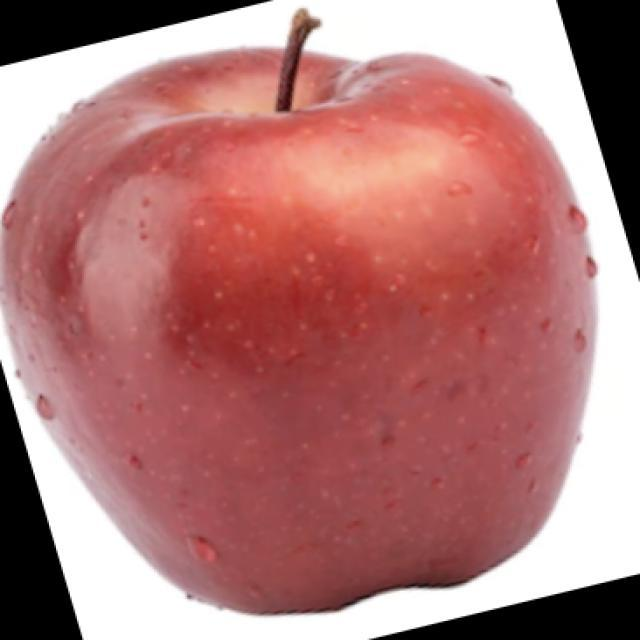Fresh Apple: (22, 52, 605, 610)
